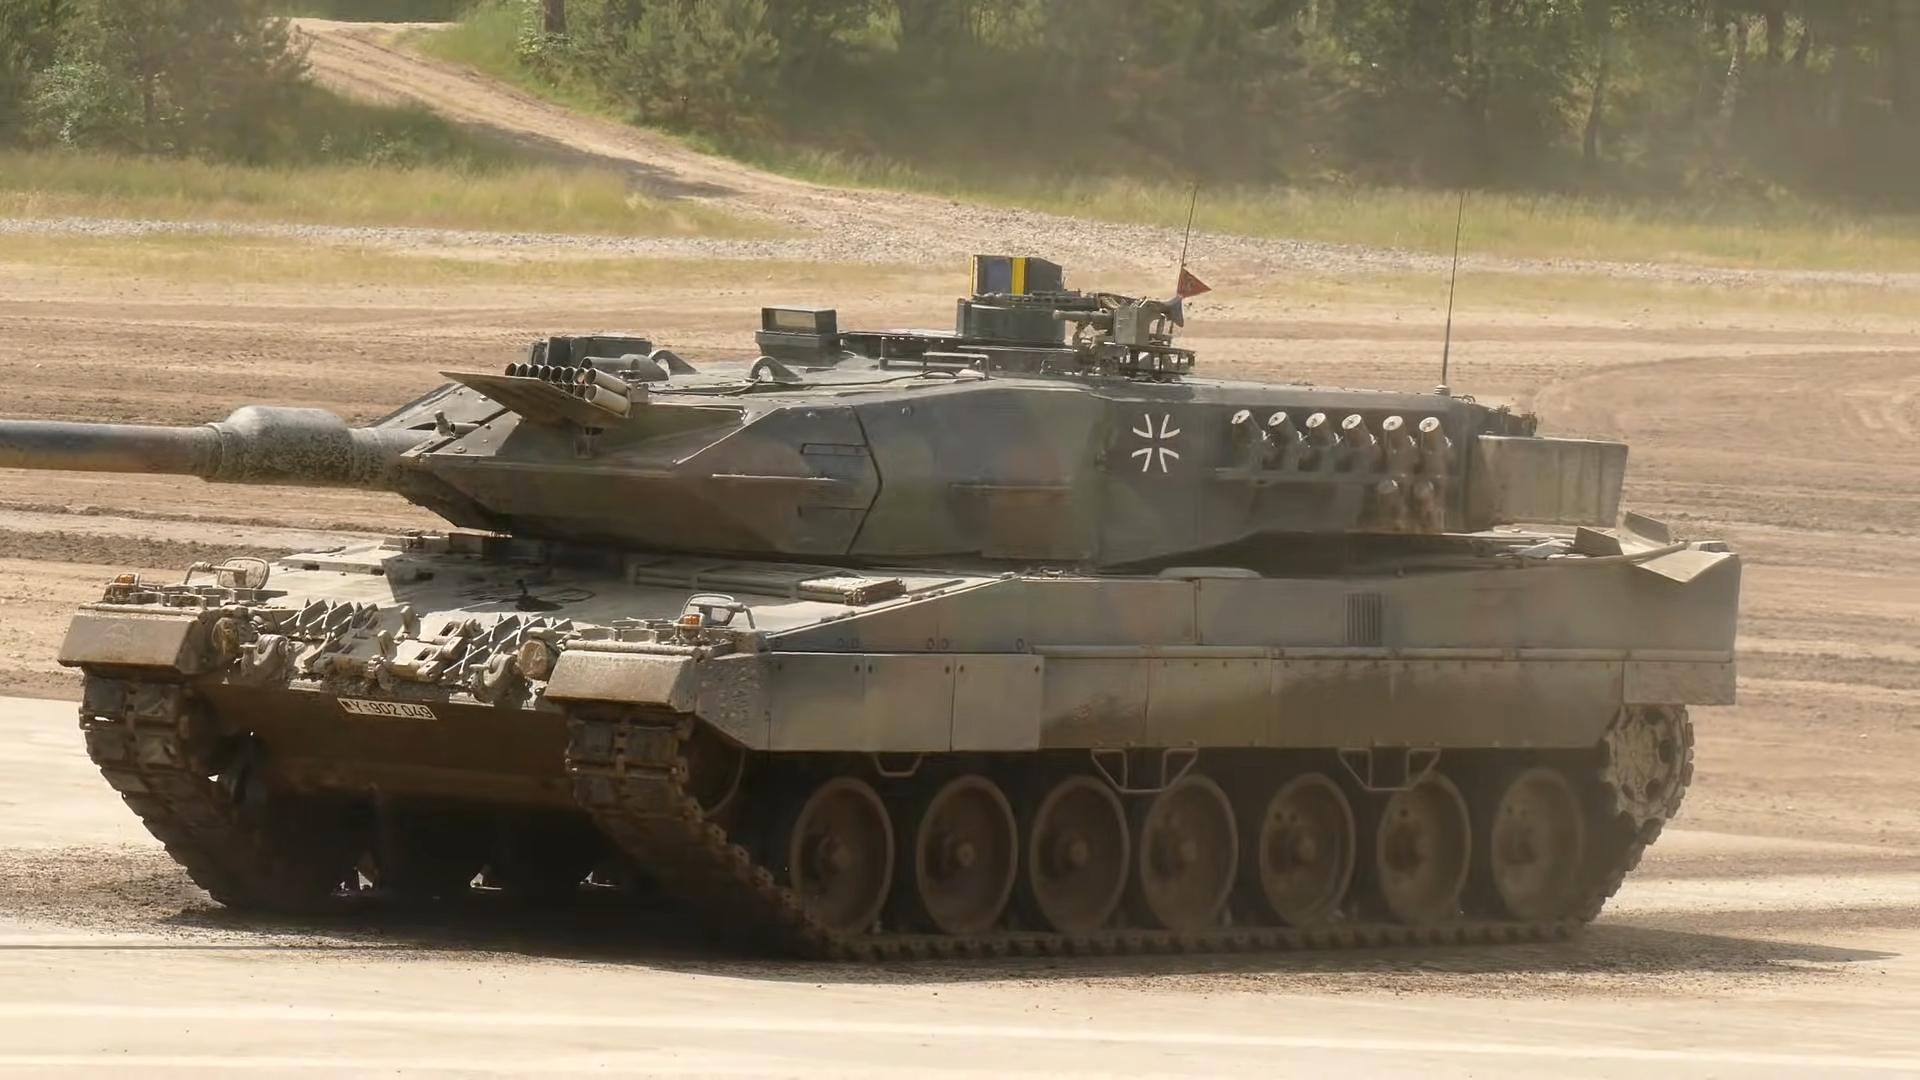tank: (1, 252, 1741, 961)
